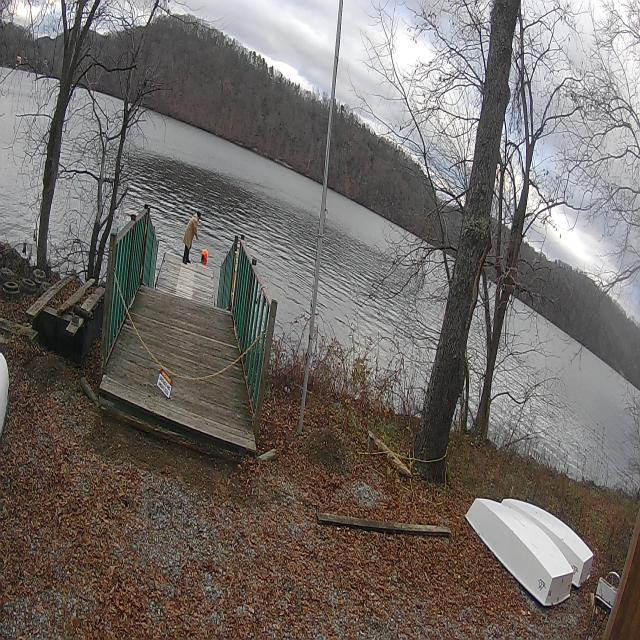Buoy: (201, 248, 209, 266)
